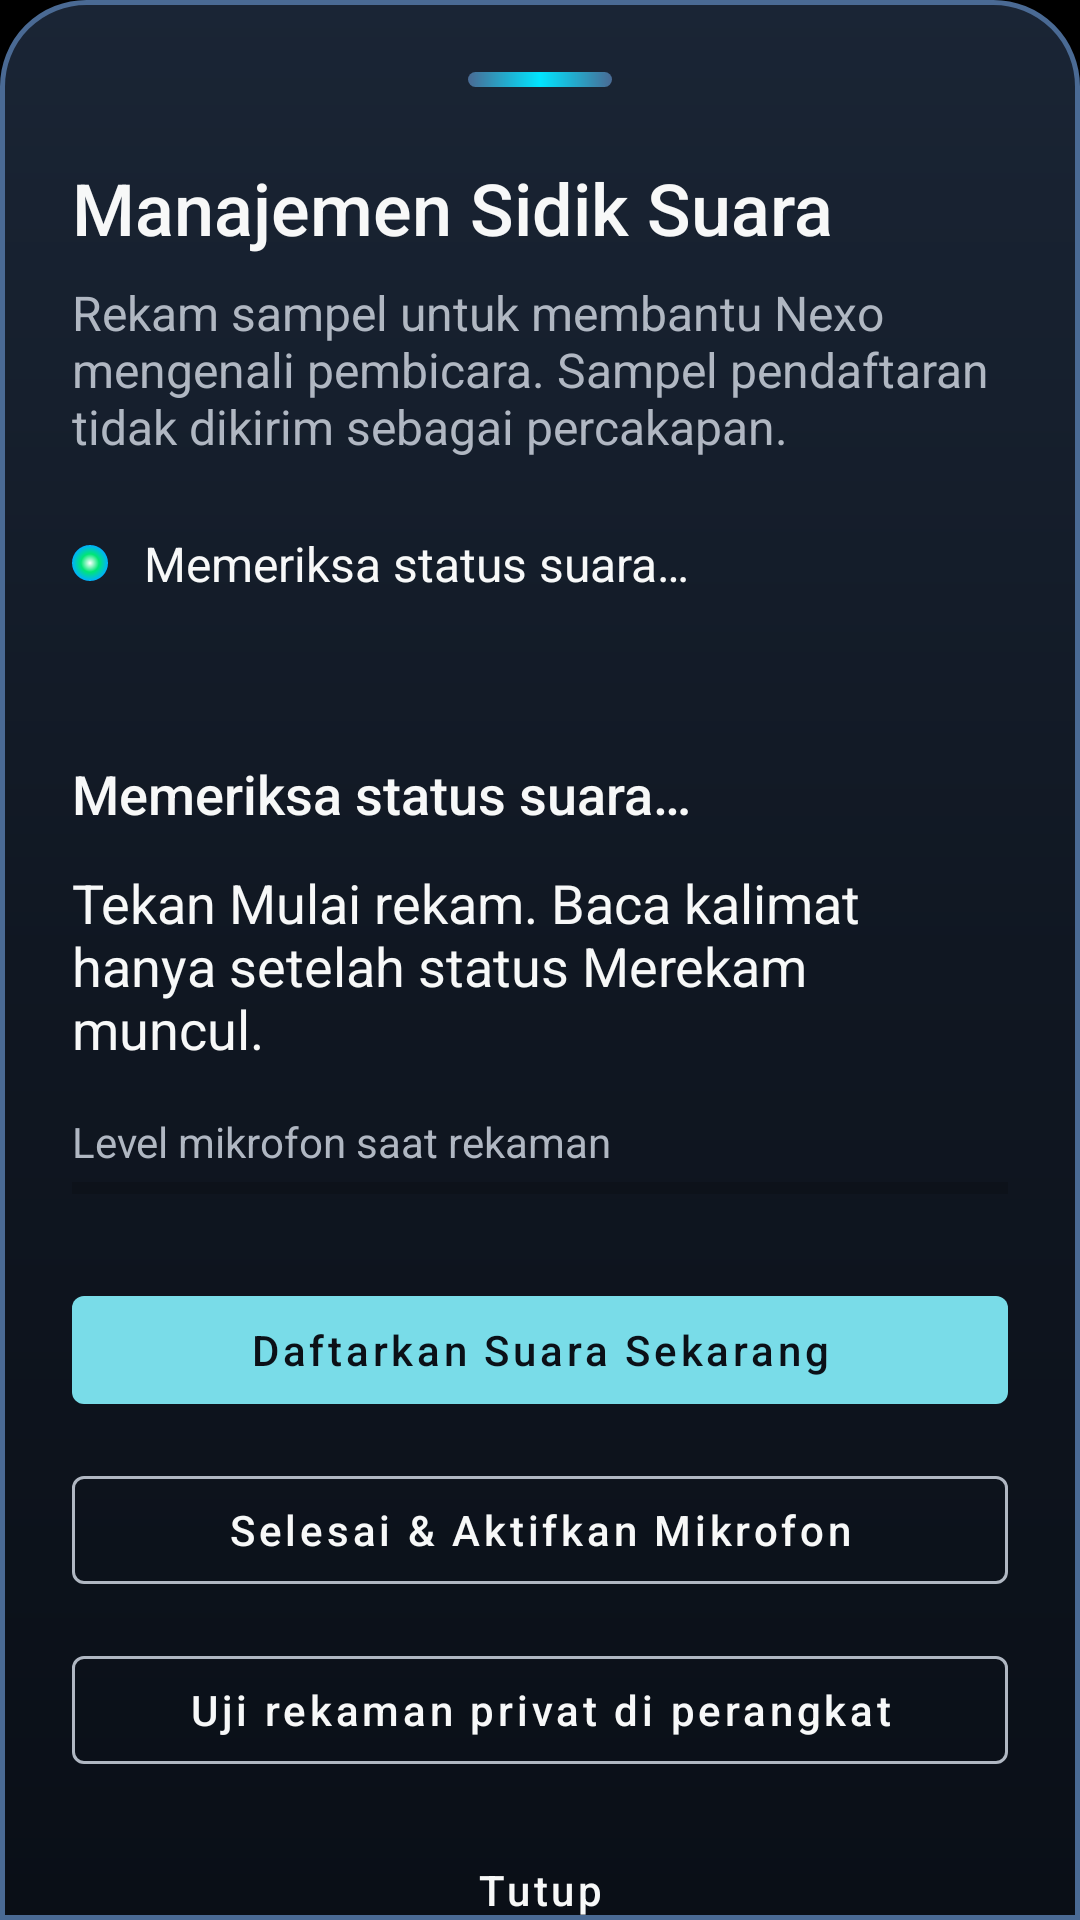

Icons on this 1080x1920 Android screen, each with the point to tap as [x,y]:
led dot: [90,563]
